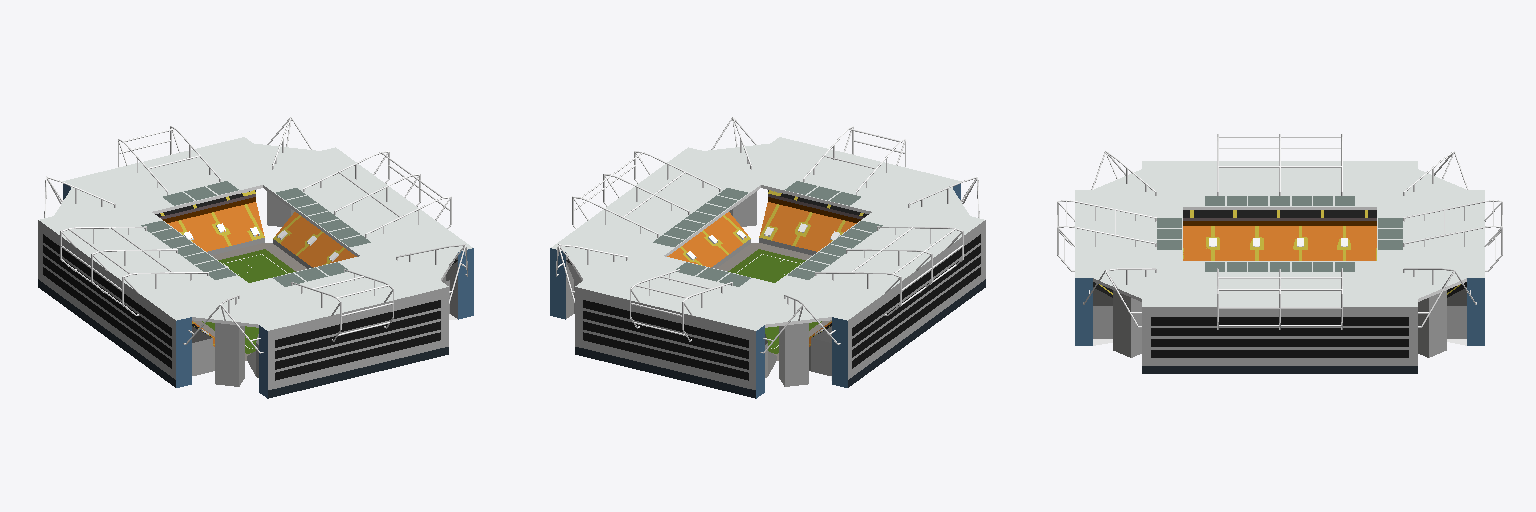
Rendered from Stadium.obj.
3 renders of one model, left to right at view 1: azimuth 30°, elevation 25°; view 2: azimuth 150°, elevation 25°; view 3: azimuth 270°, elevation 25°, orthographic.
Parts seen in each view (by area): view 1: Mesh65 Model; view 2: Mesh65 Model; view 3: Mesh65 Model.
Boxes of the visible parts, x1,y1,x2,y2 form: Mesh65 Model: [38, 117, 473, 398]; Mesh65 Model: [550, 117, 985, 398]; Mesh65 Model: [1057, 134, 1502, 373].
Size of the model in its own units: 212 by 56.29 by 249.